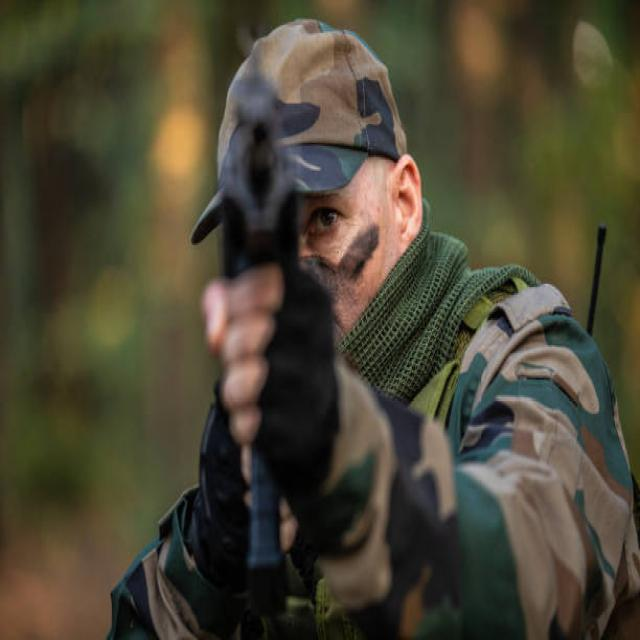soldier: (184, 17, 640, 640)
